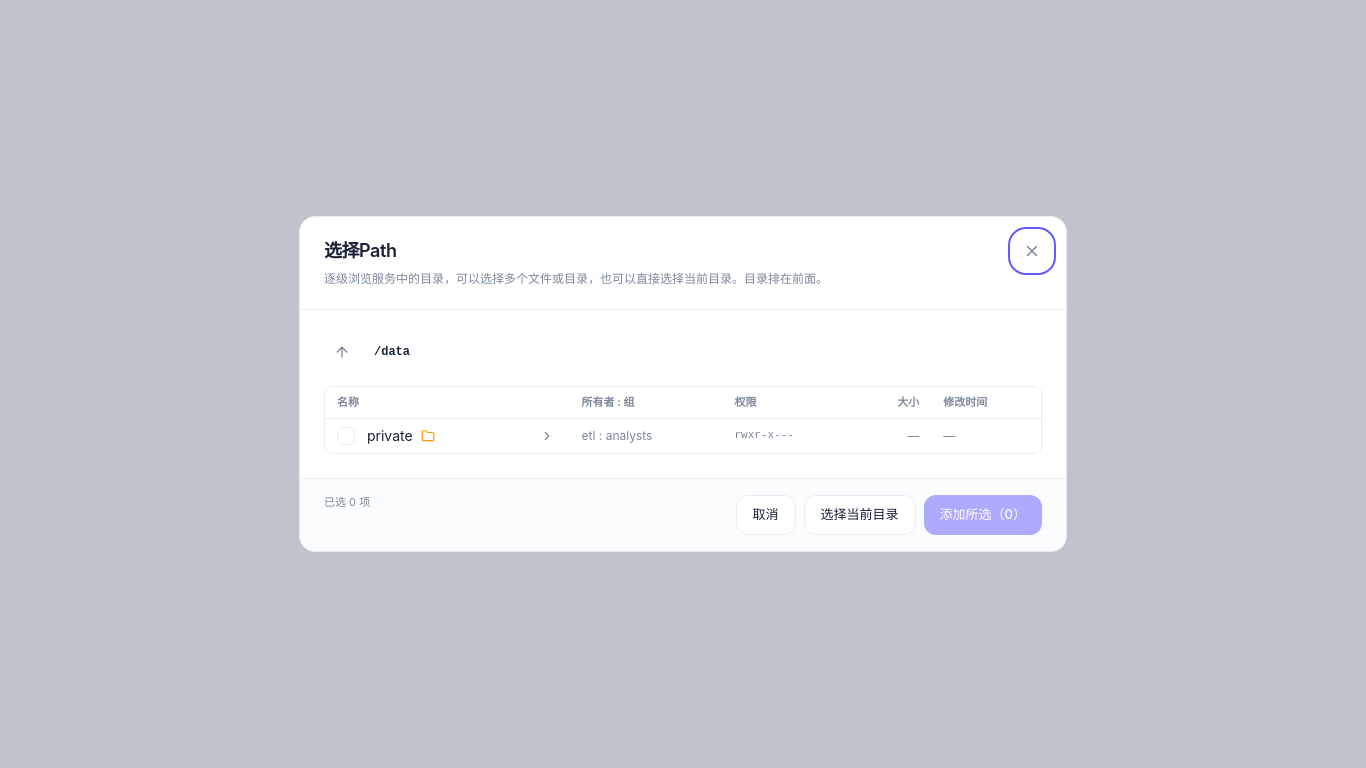
path picker › says why a directory cannot be listed and retries the same request
Click the button named "打开 private" at (547, 436), box [536,425,558,447]
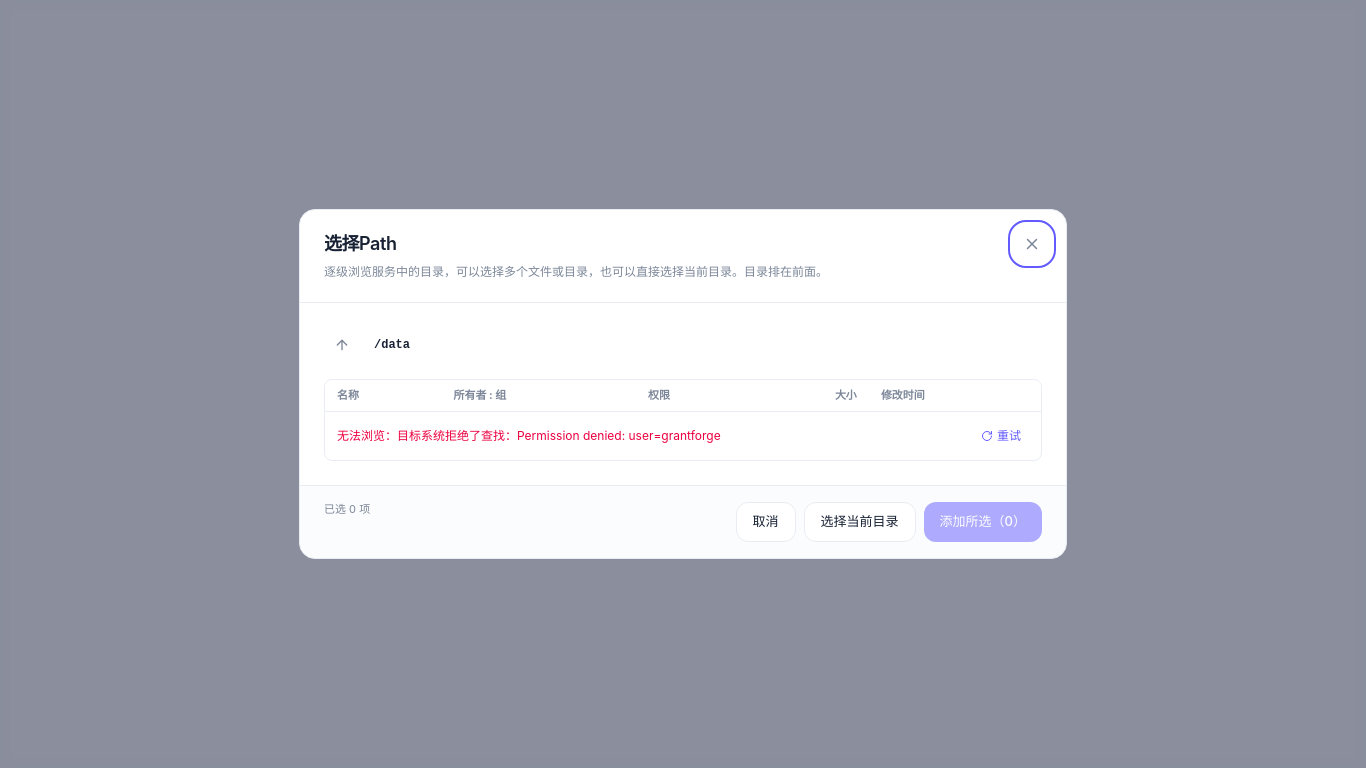
Result: the message "无法浏览：目标系统拒绝了查找：Permission denied: user=grantforge 重试" is shown at [337,424,1029,448]
Click the button "重试" at (1001, 436), box [973,424,1029,448]
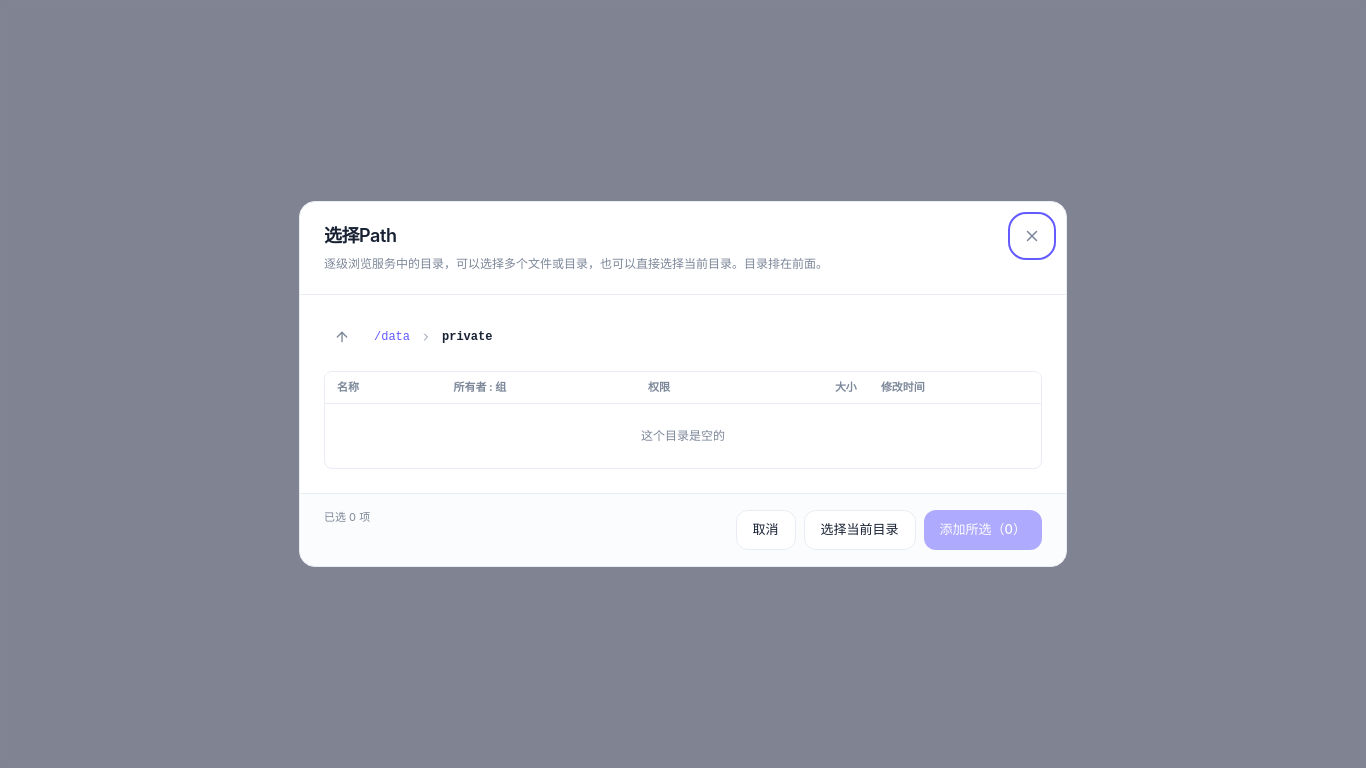
Result: the message "无法浏览：目标系统拒绝了查找：Permission denied: user=grantforge 重试" is gone
Result: the text "这个目录是空的" is shown at [641,428,725,443]
